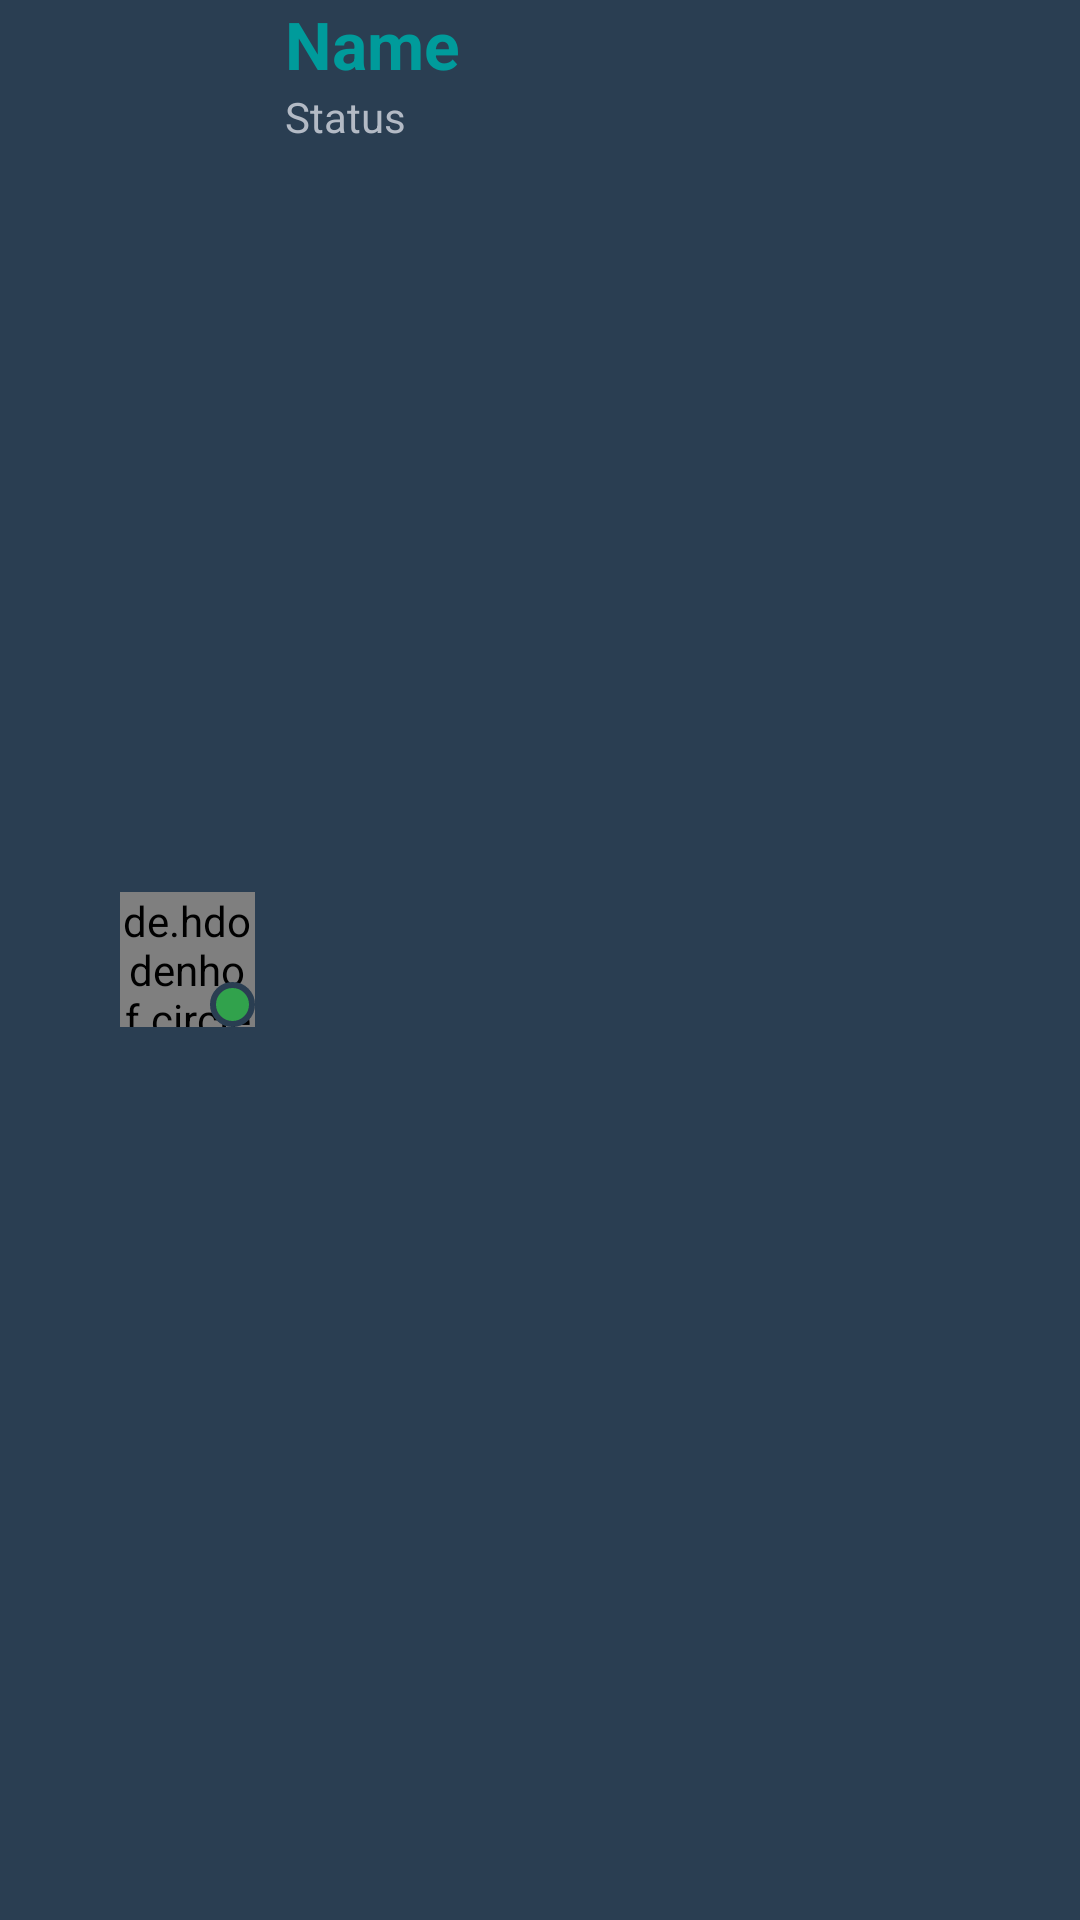

Icons on this 1080*1920 Android screen, each with the point to tap as (x,y):
chat contact online: (232,1004)
